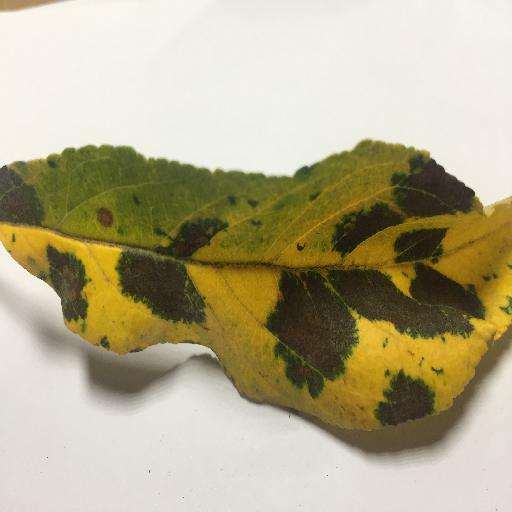Brown_Spot: (346, 268, 489, 341), (276, 289, 341, 372), (51, 258, 79, 312), (1, 187, 33, 228), (95, 205, 112, 226)
